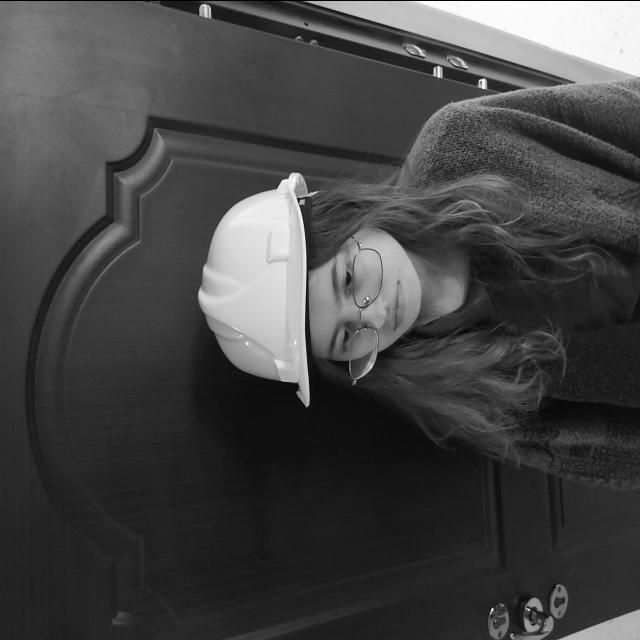safety_helmet: (198, 171, 314, 406)
